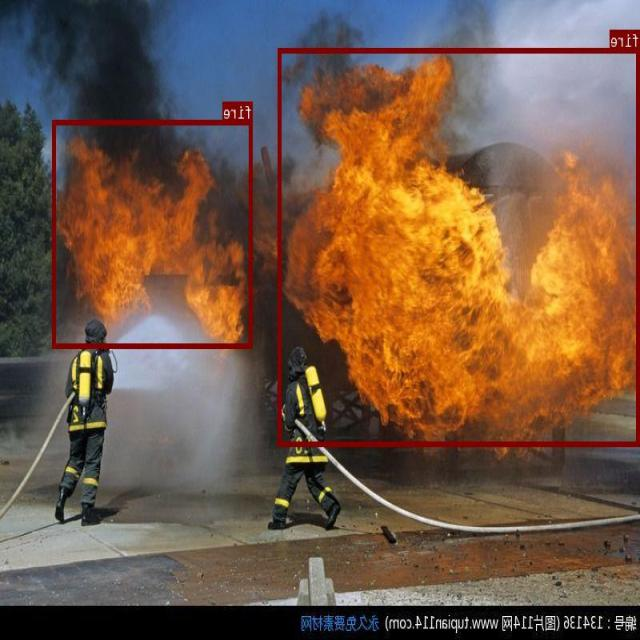fire: (278, 48, 640, 446), (53, 120, 253, 348)
